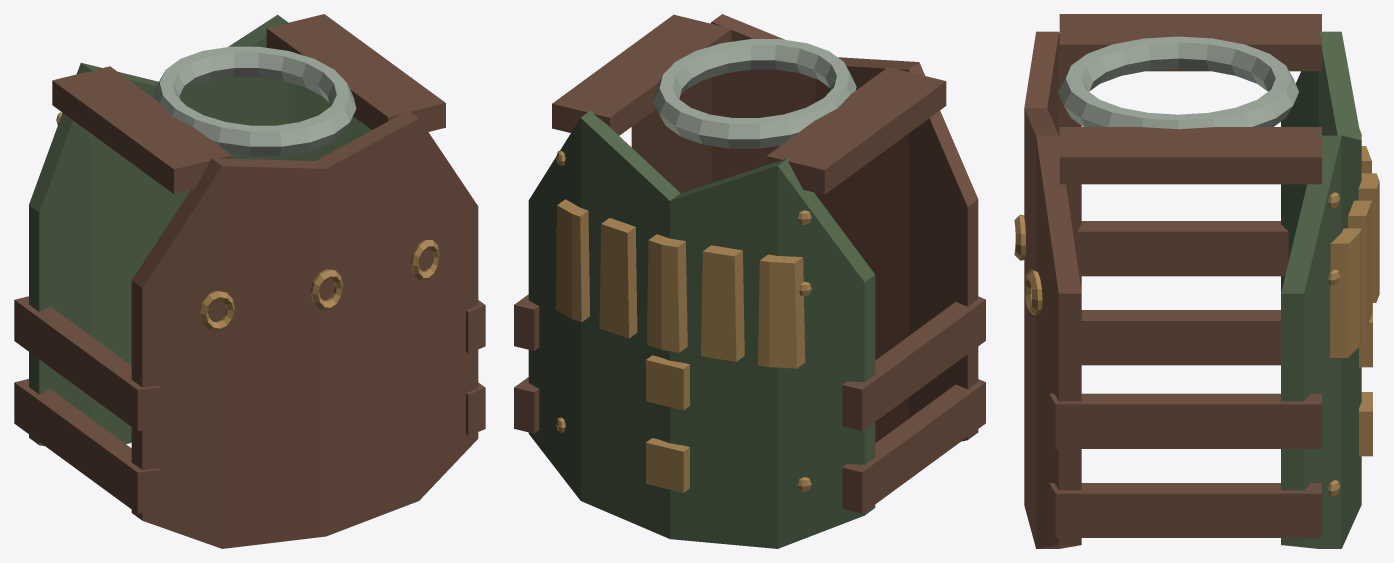
The model's file is AE_Item_MarshWarden.fbx.
The picture shows the model from 3 angles, left to right: view 1: azimuth 30°, elevation 25°; view 2: azimuth 150°, elevation 25°; view 3: azimuth 270°, elevation 25°; orthographic projection. The views are drawn at different scales.
Visible parts, largest first — view 1: AE_Item_MarshWarden; view 2: AE_Item_MarshWarden; view 3: AE_Item_MarshWarden.
Boxes of the visible parts, x1,y1,x2,y2 form: AE_Item_MarshWarden: (14,14,485,548); AE_Item_MarshWarden: (514,14,985,548); AE_Item_MarshWarden: (1014,14,1379,548).
Size of the model in its own units: 0.5289 by 0.5738 by 0.445.
